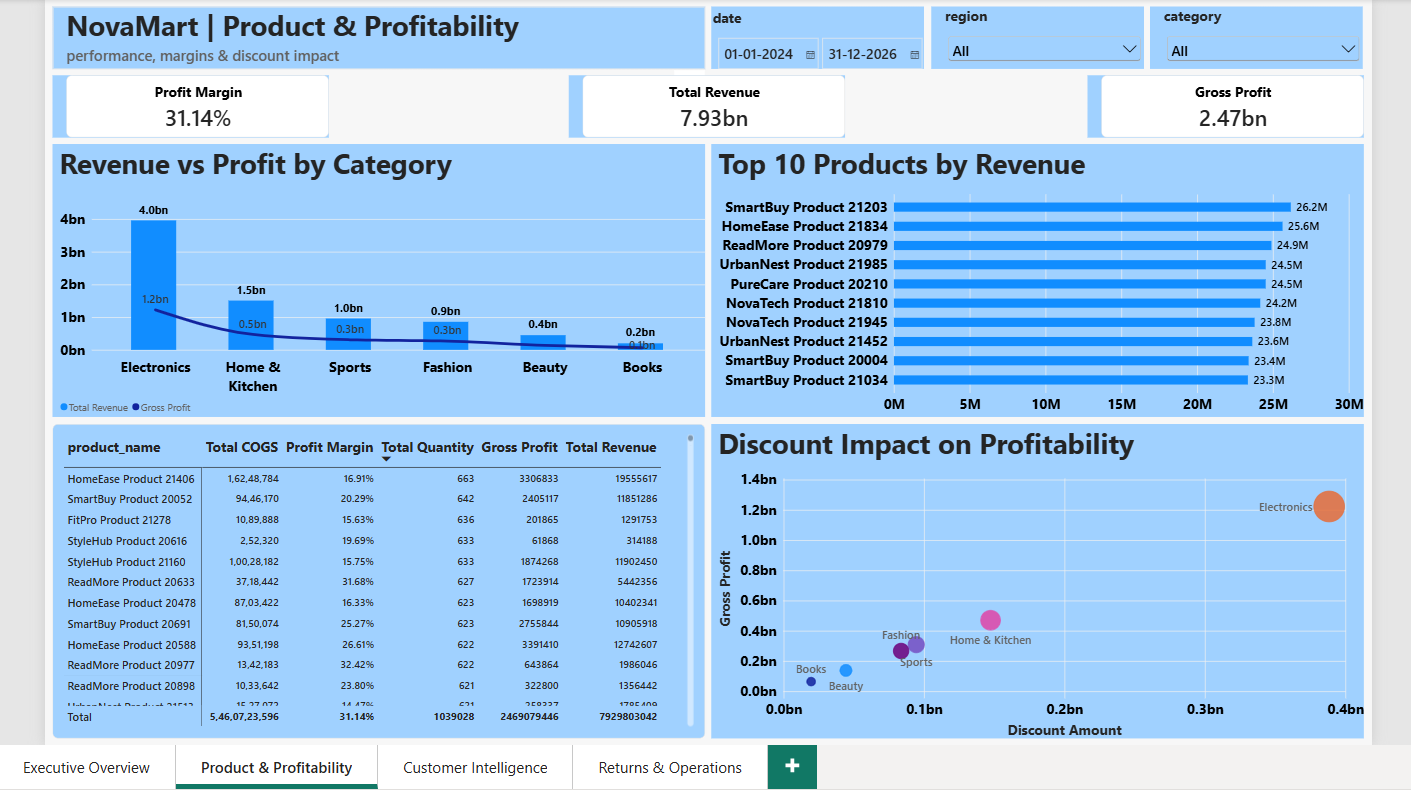

The dashboard page shown, as its layout file describes it:
{"tool":"powerbi","page":{"name":"Product & Profitability","canvas":[1920,1080],"ordinal":1},"visuals":[{"type":"textbox","title":"NovaMart | Product & Profitability","box":[10.9,10.9,945,90],"z":0},{"type":"slicer","title":"date","fields":{"Values":["dim_date.date"]},"box":[964.5,10.9,308,90],"z":1000},{"type":"slicer","title":"region","fields":{"Values":["customers_clean.region"]},"box":[1283,10,308,90],"z":2000},{"type":"slicer","title":"category","fields":{"Values":["products_clean.category"]},"box":[1600,10,308,90],"z":3000},{"type":"cardVisual","fields":{"Data":["Sales_measures.Total Revenue"]},"box":[758.2,110.4,400,90],"z":4000},{"type":"cardVisual","fields":{"Data":["Profitability_measures.Profit Margin"]},"box":[10.9,110.4,400,90],"z":5000},{"type":"cardVisual","title":"Profit","fields":{"Data":["Profitability_measures.Gross Profit"]},"box":[1509.3,110.4,400,90],"z":6000},{"type":"lineClusteredColumnComboChart","title":"Revenue vs Profit by Category","fields":{"Category":["products_clean.category"],"Y":["Sales_measures.Total Revenue"],"Y2":["Profitability_measures.Gross Profit"]},"box":[10,210,945,395],"z":7000},{"type":"barChart","title":"Top 10 Products by Revenue","fields":{"Category":["products_clean.product_name"],"Y":["Sales_measures.Total Revenue"]},"box":[964.5,210,944.6,395],"z":8000},{"type":"pivotTable","fields":{"Rows":["products_clean.product_name"],"Values":["Profitability_measures.Total COGS","Profitability_measures.Profit Margin","Sales_measures.Total Quantity","Profitability_measures.Gross Profit","Sales_measures.Total Revenue"]},"box":[10.9,615,945,455],"z":9000},{"type":"scatterChart","title":"Discount Impact on Profitability","fields":{"Series":["products_clean.category"],"Size":["Sales_measures.Total Revenue"],"X":["Sales_measures.Discount Amount"],"Y":["Profitability_measures.Gross Profit"]},"box":[964,615.3,944.6,455],"z":10000}]}

Visuals, with their boxes on the page's 1920x1080 design canvas (x1, y1, x2, y2). These are canvas units, not pixel positions in the 1411x790 screenshot, which may show the page scaled, cropped or inside an application window:
"NovaMart | Product & Profitability" textbox: bbox=[11, 11, 956, 101]
"date" slicer: bbox=[964, 11, 1272, 101]
"region" slicer: bbox=[1283, 10, 1591, 100]
"category" slicer: bbox=[1600, 10, 1908, 100]
cardVisual - Sales_measures.Total Revenue: bbox=[758, 110, 1158, 200]
cardVisual - Profitability_measures.Profit Margin: bbox=[11, 110, 411, 200]
"Profit" cardVisual: bbox=[1509, 110, 1909, 200]
"Revenue vs Profit by Category" lineClusteredColumnComboChart: bbox=[10, 210, 955, 605]
"Top 10 Products by Revenue" barChart: bbox=[964, 210, 1909, 605]
pivotTable - products_clean.product_name x Profitability_measures.Total COGS: bbox=[11, 615, 956, 1070]
"Discount Impact on Profitability" scatterChart: bbox=[964, 615, 1909, 1070]
